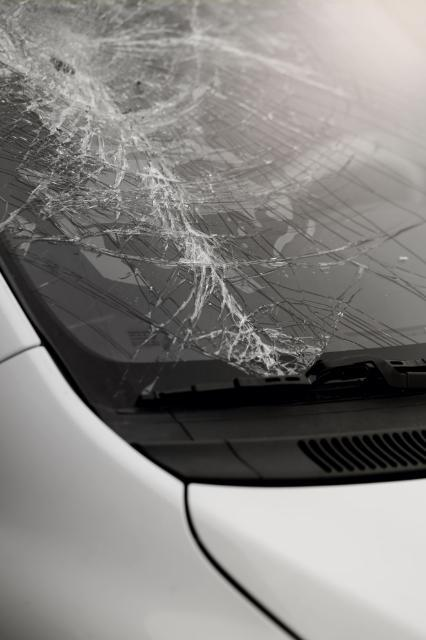Windshield: (2, 0, 426, 476)
